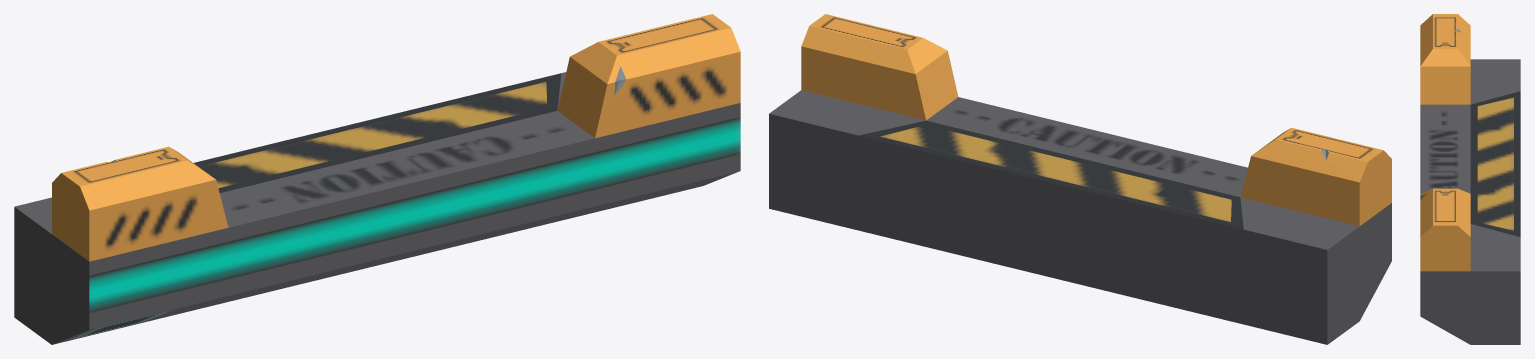
The model's file is SM_Bld_Railing_Straight_01.fbx.
3 views of the same model, side by side, from view 1: azimuth 30°, elevation 25°; view 2: azimuth 150°, elevation 25°; view 3: azimuth 270°, elevation 25° (orthographic). The views are drawn at different scales.
Parts seen in each view (by area): view 1: SM_Bld_Railing_Straight_01; view 2: SM_Bld_Railing_Straight_01; view 3: SM_Bld_Railing_Straight_01.
Boxes of the visible parts, x1,y1,x2,y2 form: SM_Bld_Railing_Straight_01: (14, 14, 740, 344); SM_Bld_Railing_Straight_01: (769, 14, 1391, 344); SM_Bld_Railing_Straight_01: (1420, 14, 1520, 344).
Size of the model in its own units: 250 by 65.64 by 50.02.
